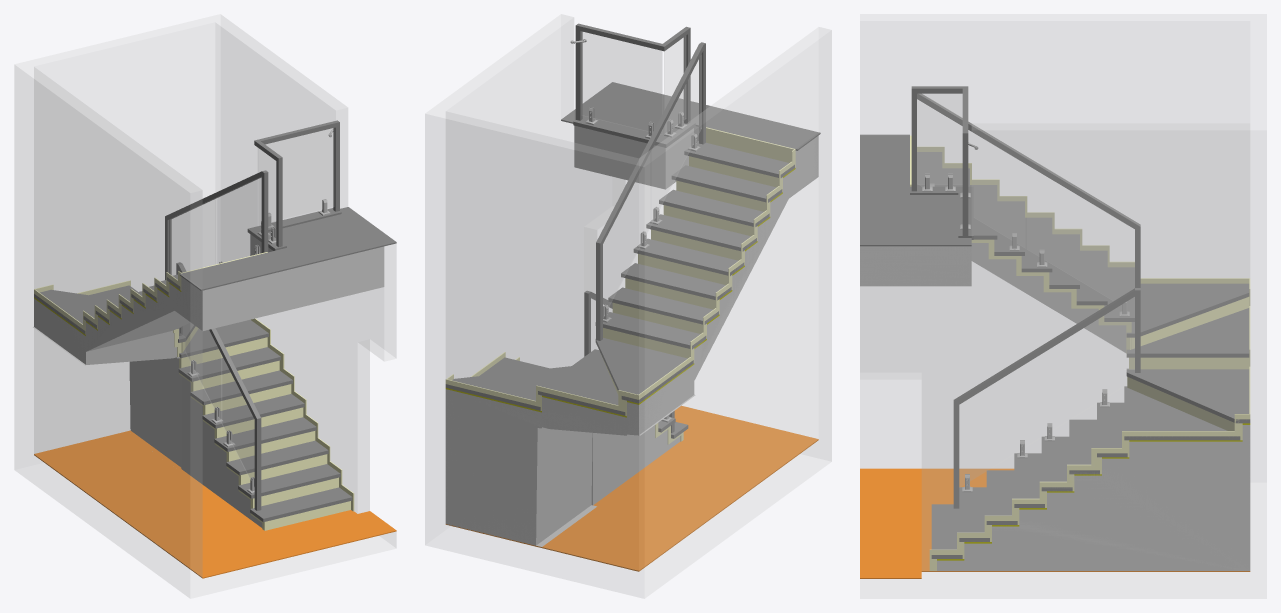
Rendered from Устройство лестницы на бетонном основании со стеклянным ограждением.obj.
The picture shows the model from 3 angles, left to right: view 1: azimuth 30°, elevation 25°; view 2: azimuth 150°, elevation 25°; view 3: azimuth 270°, elevation 25°; orthographic projection. The views are drawn at different scales.
Bounding box in the file's own units: 2.5 × 4.7 × 3.7.
